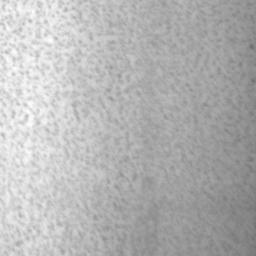Pitted surface: (0, 0, 256, 256), (178, 227, 215, 256)
